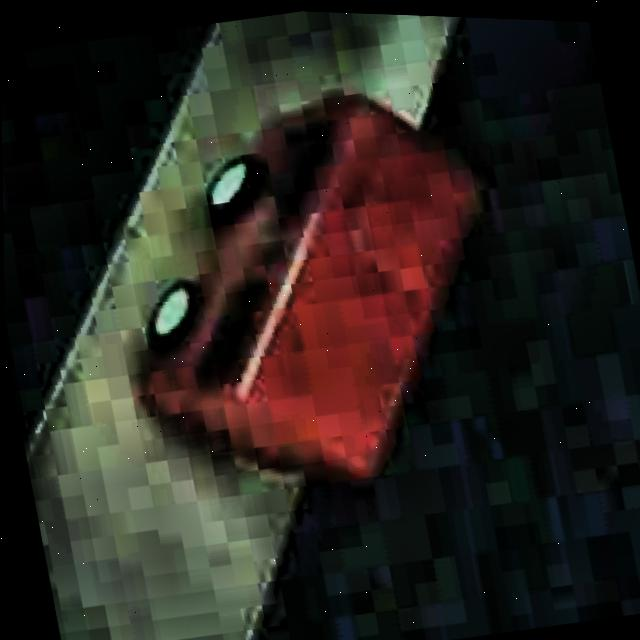bus: (86, 60, 531, 523)
